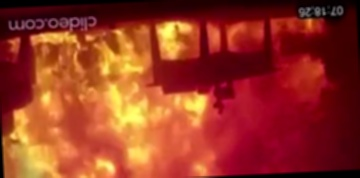fire: (0, 24, 334, 178)
